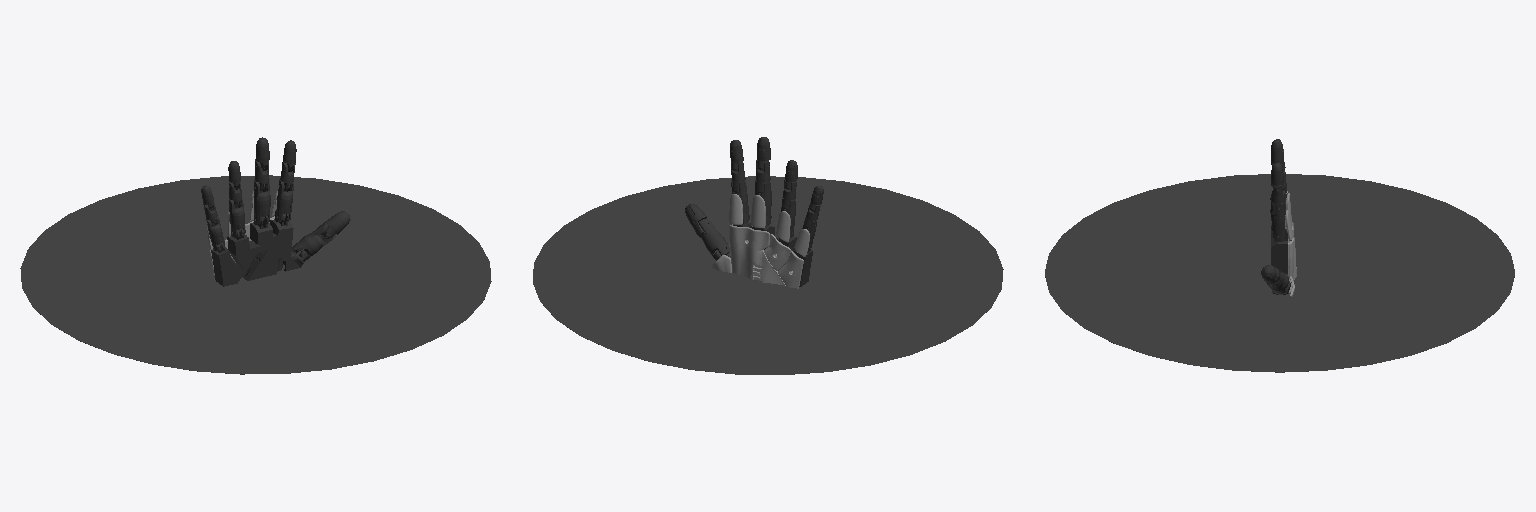
robot.urdf — inmoov_hand:
<?xml version="1.0" ?>
<!-- =================================================================================== -->
<!-- |    This document was autogenerated by xacro from inmoov_right_hand.urdf.xacro   | -->
<!-- |    EDITING THIS FILE BY HAND IS NOT RECOMMENDED                                 | -->
<!-- =================================================================================== -->
<robot name="inmoov_hand" xmlns:xacro="http://ros.org/wiki/xacro">
  <link name="base_link">
    <visual>
      <geometry>
        <cylinder length="0.0001" radius="0.26"/>
      </geometry>
      <origin rpy="0 0 0" xyz="0 0 0.055"/>
      <material name="invisible">
        <color rgba="0.3 0.3 0.3 0"/>
      </material>
    </visual>
  </link>
  <link name="right_hand">
    <visual>
      <geometry>
        <mesh filename="package://inmoov_description/meshes/right_hand.stl" scale="0.001 0.001 0.001"/>
      </geometry>
      <origin rpy="0 0 0" xyz="0 0 0"/>
      <material name="cframe">
        <color rgba="0.25 0.25 0.25 1"/>
      </material>
    </visual>
  </link>
  <link name="right_thumb1">
    <visual>
      <geometry>
        <mesh filename="package://inmoov_description/meshes/right_thumb5_1.stl" scale="0.001 0.001 0.001"/>
      </geometry>
      <origin rpy="3.1415 0 0" xyz="0 0 0"/>
      <material name="cframe">
        <color rgba="0.25 0.25 0.25 1"/>
      </material>
    </visual>
  </link>
  <link name="right_thumb2">
    <visual>
      <geometry>
        <mesh filename="package://inmoov_description/meshes/thumb5_2.stl" scale="0.001 0.001 0.001"/>
      </geometry>
      <origin rpy="0 0 3.1415" xyz="0 0 0"/>
      <material name="cframe">
        <color rgba="0.25 0.25 0.25 1"/>
      </material>
    </visual>
  </link>
  <link name="right_thumb3">
    <visual>
      <geometry>
        <mesh filename="package://inmoov_description/meshes/thumb5_3.stl" scale="0.001 0.001 0.001"/>
      </geometry>
      <origin rpy="0 0 3.1415" xyz="0 0 0"/>
      <material name="cframe">
        <color rgba="0.25 0.25 0.25 1"/>
      </material>
    </visual>
  </link>
  <link name="right_index1">
    <visual>
      <geometry>
        <mesh filename="package://inmoov_description/meshes/index3_1.stl" scale="0.001 0.001 0.001"/>
      </geometry>
      <origin rpy="0 0 3.1415" xyz="0 0 0"/>
      <material name="cframe">
        <color rgba="0.25 0.25 0.25 1"/>
      </material>
    </visual>
  </link>
  <link name="right_index2">
    <visual>
      <geometry>
        <mesh filename="package://inmoov_description/meshes/index3_2.stl" scale="0.001 0.001 0.001"/>
      </geometry>
      <origin rpy="0 0 3.1415" xyz="0 0 0"/>
      <material name="cframe">
        <color rgba="0.25 0.25 0.25 1"/>
      </material>
    </visual>
  </link>
  <link name="right_index3">
    <visual>
      <geometry>
        <mesh filename="package://inmoov_description/meshes/index3_3.stl" scale="0.001 0.001 0.001"/>
      </geometry>
      <origin rpy="0 0 3.1415" xyz="0 0 0"/>
      <material name="cframe">
        <color rgba="0.25 0.25 0.25 1"/>
      </material>
    </visual>
  </link>
  <link name="right_middle1">
    <visual>
      <geometry>
        <mesh filename="package://inmoov_description/meshes/middle3_1.stl" scale="0.001 0.001 0.001"/>
      </geometry>
      <origin rpy="0 0 3.1415" xyz="0 0 0"/>
      <material name="cframe">
        <color rgba="0.25 0.25 0.25 1"/>
      </material>
    </visual>
  </link>
  <link name="right_middle2">
    <visual>
      <geometry>
        <mesh filename="package://inmoov_description/meshes/middle3_2.stl" scale="0.001 0.001 0.001"/>
      </geometry>
      <origin rpy="0 0 3.1415" xyz="0 0 0"/>
      <material name="cframe">
        <color rgba="0.25 0.25 0.25 1"/>
      </material>
    </visual>
  </link>
  <link name="right_middle3">
    <visual>
      <geometry>
        <mesh filename="package://inmoov_description/meshes/middle3_3.stl" scale="0.001 0.001 0.001"/>
      </geometry>
      <origin rpy="0 0 3.1415" xyz="0 0 0"/>
      <material name="cframe">
        <color rgba="0.25 0.25 0.25 1"/>
      </material>
    </visual>
  </link>
  <link name="right_ring1">
    <visual>
      <geometry>
        <mesh filename="package://inmoov_description/meshes/right_ring3_1.stl" scale="0.001 0.001 0.001"/>
      </geometry>
      <origin rpy="0 0 3.1415" xyz="0 0 0"/>
      <material name="cframe">
        <color rgba="0.25 0.25 0.25 1"/>
      </material>
    </visual>
  </link>
  <link name="right_ring2">
    <visual>
      <geometry>
        <mesh filename="package://inmoov_description/meshes/ring3_2.stl" scale="0.001 0.001 0.001"/>
      </geometry>
      <origin rpy="0 0 3.1415" xyz="0 0 0"/>
      <material name="cframe">
        <color rgba="0.25 0.25 0.25 1"/>
      </material>
    </visual>
  </link>
  <link name="right_ring3">
    <visual>
      <geometry>
        <mesh filename="package://inmoov_description/meshes/ring3_3.stl" scale="0.001 0.001 0.001"/>
      </geometry>
      <origin rpy="0 0 3.1415" xyz="0 0 0"/>
      <material name="cframe">
        <color rgba="0.25 0.25 0.25 1"/>
      </material>
    </visual>
  </link>
  <link name="right_ring4">
    <visual>
      <geometry>
        <mesh filename="package://inmoov_description/meshes/ring3_4.stl" scale="0.001 0.001 0.001"/>
      </geometry>
      <origin rpy="0 0 3.1415" xyz="0 0 0"/>
      <material name="cframe">
        <color rgba="0.25 0.25 0.25 1"/>
      </material>
    </visual>
  </link>
  <link name="right_pinky1">
    <visual>
      <geometry>
        <mesh filename="package://inmoov_description/meshes/right_pinky3_1.stl" scale="0.001 0.001 0.001"/>
      </geometry>
      <origin rpy="0 0 3.1415" xyz="0 0 0"/>
      <material name="cframe">
        <color rgba="0.25 0.25 0.25 1"/>
      </material>
    </visual>
  </link>
  <link name="right_pinky2">
    <visual>
      <geometry>
        <mesh filename="package://inmoov_description/meshes/pinky3_2.stl" scale="0.001 0.001 0.001"/>
      </geometry>
      <origin rpy="0 0 3.1415" xyz="0 0 0"/>
      <material name="cframe">
        <color rgba="0.25 0.25 0.25 1"/>
      </material>
    </visual>
  </link>
  <link name="right_pinky3">
    <visual>
      <geometry>
        <mesh filename="package://inmoov_description/meshes/pinky3_3.stl" scale="0.001 0.001 0.001"/>
      </geometry>
      <origin rpy="0 0 3.1415" xyz="0 0 0"/>
      <material name="cframe">
        <color rgba="0.25 0.25 0.25 1"/>
      </material>
    </visual>
  </link>
  <link name="right_pinky4">
    <visual>
      <geometry>
        <mesh filename="package://inmoov_description/meshes/pinky3_4.stl" scale="0.001 0.001 0.001"/>
      </geometry>
      <origin rpy="0 0 3.1415" xyz="0 0 0"/>
      <material name="cframe">
        <color rgba="0.25 0.25 0.25 1"/>
      </material>
    </visual>
  </link>
  <joint name="right_thumb1" type="revolute">
    <axis xyz="0 0 1"/>
    <limit effort="1000.0" lower="0" upper="1.57" velocity="0.5"/>
    <origin rpy="3.1415 0.1 0" xyz="-0.029 0 -0.0577"/>
    <mimic joint="right_thumb" multiplier="-0.75" offset="0"/>
    <parent link="right_hand"/>
    <child link="right_thumb1"/>
  </joint>
  <joint name="right_thumb" type="revolute">
    <axis xyz="1 0 0"/>
    <limit effort="1000.0" lower="0" upper="1.5" velocity="0.5"/>
    <origin rpy="0 2.3 -0.3" xyz="-0.02725 -0.0006 0.014"/>
    <parent link="right_thumb1"/>
    <child link="right_thumb2"/>
  </joint>
  <joint name="right_thumb3" type="revolute">
    <axis xyz="1 0 0"/>
    <limit effort="1000.0" lower="-1.57" upper="0" velocity="0.5"/>
    <origin rpy="0 0 0" xyz="0 0 -0.035"/>
    <mimic joint="right_thumb" multiplier="1" offset="0"/>
    <parent link="right_thumb2"/>
    <child link="right_thumb3"/>
  </joint>
  <joint name="right_index1" type="revolute">
    <axis xyz="1 0 0"/>
    <limit effort="1000.0" lower="0" upper="1.5" velocity="0.5"/>
    <origin rpy="0 -0.1 3.1415" xyz="-0.0342 -0.0015 -0.119"/>
    <mimic joint="right_index" multiplier="1" offset="0"/>
    <parent link="right_hand"/>
    <child link="right_index1"/>
  </joint>
  <joint name="right_index" type="revolute">
    <axis xyz="1 0 0"/>
    <limit effort="1000.0" lower="0" upper="1.5" velocity="0.5"/>
    <origin rpy="0 0 0" xyz="0 0.001 -0.03595"/>
    <parent link="right_index1"/>
    <child link="right_index2"/>
  </joint>
  <joint name="right_index3" type="revolute">
    <axis xyz="1 0 0"/>
    <limit effort="1000.0" lower="0" upper="1.5" velocity="0.5"/>
    <origin rpy="0 0 0" xyz="0 0 -0.024"/>
    <mimic joint="right_index" multiplier="1" offset="0"/>
    <parent link="right_index2"/>
    <child link="right_index3"/>
  </joint>
  <joint name="right_middle1" type="revolute">
    <axis xyz="1 0 0"/>
    <limit effort="1000.0" lower="0" upper="1.5" velocity="0.5"/>
    <origin rpy="0 0 3.1415" xyz="-0.007 -0.00175 -0.12325"/>
    <mimic joint="right_middle" multiplier="1" offset="0"/>
    <parent link="right_hand"/>
    <child link="right_middle1"/>
  </joint>
  <joint name="right_middle" type="revolute">
    <axis xyz="1 0 0"/>
    <limit effort="1000.0" lower="0" upper="1.5" velocity="0.5"/>
    <origin rpy="0 0 0" xyz="0 0.000 -0.0389"/>
    <parent link="right_middle1"/>
    <child link="right_middle2"/>
  </joint>
  <joint name="right_middle3" type="revolute">
    <axis xyz="1 0 0"/>
    <limit effort="1000.0" lower="-1.57" upper="0" velocity="0.5"/>
    <origin rpy="0 0 0" xyz="0 0.0005 -0.0259"/>
    <mimic joint="right_middle" multiplier="1" offset="0"/>
    <parent link="right_middle2"/>
    <child link="right_middle3"/>
  </joint>
  <joint name="right_ring1" type="revolute">
    <axis xyz="0 0 1"/>
    <limit effort="1000.0" lower="-1.57" upper="0" velocity="0.5"/>
    <origin rpy="0 -0.7 3.1415" xyz="0.00705 0 -0.0794"/>
    <mimic joint="right_ring" multiplier="0.1" offset="0"/>
    <parent link="right_hand"/>
    <child link="right_ring1"/>
  </joint>
  <joint name="right_ring" type="revolute">
    <axis xyz="1 0 0"/>
    <limit effort="1000.0" lower="0" upper="1.5" velocity="0.5"/>
    <origin rpy="0 0.7775 0" xyz="-0.0351 0.00126 -0.0166"/>
    <parent link="right_ring1"/>
    <child link="right_ring2"/>
  </joint>
  <joint name="right_ring3" type="revolute">
    <axis xyz="1 0 0"/>
    <limit effort="1000.0" lower="-1.57" upper="0" velocity="0.5"/>
    <origin rpy="0 0 0" xyz="0 0.0005 -0.0345"/>
    <mimic joint="right_ring" multiplier="1" offset="0"/>
    <parent link="right_ring2"/>
    <child link="right_ring3"/>
  </joint>
  <joint name="right_ring4" type="revolute">
    <axis xyz="1 0 0"/>
    <limit effort="1000.0" lower="-1.57" upper="0" velocity="0.5"/>
    <origin rpy="0 0 0" xyz="0 0.0004 -0.0229"/>
    <mimic joint="right_ring" multiplier="1" offset="0"/>
    <parent link="right_ring3"/>
    <child link="right_ring4"/>
  </joint>
  <joint name="right_pinky1" type="revolute">
    <axis xyz="0 0 1"/>
    <limit effort="1000.0" lower="-1.57" upper="0" velocity="0.5"/>
    <origin rpy="0 -0.7 3.1415" xyz="0.027 0 -0.0555"/>
    <mimic joint="right_pinky" multiplier="0.1" offset="0"/>
    <parent link="right_hand"/>
    <child link="right_pinky1"/>
  </joint>
  <joint name="right_pinky" type="revolute">
    <axis xyz="1 0 0"/>
    <limit effort="1000.0" lower="0" upper="1.5" velocity="0.5"/>
    <origin rpy="0 0.93 0" xyz="-0.046 -0 -0.0228"/>
    <parent link="right_pinky1"/>
    <child link="right_pinky2"/>
  </joint>
  <joint name="right_pinky3" type="revolute">
    <axis xyz="1 0 0"/>
    <limit effort="1000.0" lower="-1.57" upper="0" velocity="0.5"/>
    <origin rpy="0 0 0" xyz="0 0.0005 -0.031"/>
    <mimic joint="right_pinky" multiplier="1" offset="0"/>
    <parent link="right_pinky2"/>
    <child link="right_pinky3"/>
  </joint>
  <joint name="right_pinky4" type="revolute">
    <axis xyz="1 0 0"/>
    <limit effort="1000.0" lower="-1.57" upper="0" velocity="0.5"/>
    <origin rpy="0 0 0" xyz="0 0.0004 -0.0208"/>
    <mimic joint="right_pinky" multiplier="1" offset="0"/>
    <parent link="right_pinky3"/>
    <child link="right_pinky4"/>
  </joint>
  <link name="right_handcover">
    <visual>
      <geometry>
        <mesh filename="package://inmoov_description/meshes/right_cover_hand.stl" scale="0.001 0.001 0.001"/>
      </geometry>
      <origin rpy="0 0 0" xyz="0 0 0"/>
      <material name="ccover">
        <color rgba="0.6 0.6 0.6 1"/>
      </material>
    </visual>
  </link>
  <link name="right_cover_handring">
    <visual>
      <geometry>
        <mesh filename="package://inmoov_description/meshes/right_cover_handring.stl" scale="0.001 0.001 0.001"/>
      </geometry>
      <origin rpy="0 0 3.1415" xyz="0 0 0"/>
      <material name="ccover">
        <color rgba="0.6 0.6 0.6 1"/>
      </material>
    </visual>
  </link>
  <link name="right_cover_handpinky">
    <visual>
      <geometry>
        <mesh filename="package://inmoov_description/meshes/right_cover_handpinky.stl" scale="0.001 0.001 0.001"/>
      </geometry>
      <origin rpy="0 0 3.1415" xyz="0 0 0"/>
      <material name="ccover">
        <color rgba="0.6 0.6 0.6 1"/>
      </material>
    </visual>
  </link>
  <link name="right_cover_thumb">
    <visual>
      <geometry>
        <mesh filename="package://inmoov_description/meshes/right_cover_thumb.stl" scale="0.001 0.001 0.001"/>
      </geometry>
      <origin rpy="3.1415 0 0" xyz="0 0 0"/>
      <material name="ccover">
        <color rgba="0.6 0.6 0.6 1"/>
      </material>
    </visual>
  </link>
  <link name="right_cover_index">
    <visual>
      <geometry>
        <mesh filename="package://inmoov_description/meshes/right_cover_index.stl" scale="0.001 0.001 0.001"/>
      </geometry>
      <origin rpy="0 0 3.1415" xyz="0 0 0"/>
      <material name="ccover">
        <color rgba="0.6 0.6 0.6 1"/>
      </material>
    </visual>
  </link>
  <link name="right_cover_middle">
    <visual>
      <geometry>
        <mesh filename="package://inmoov_description/meshes/right_cover_middle.stl" scale="0.001 0.001 0.001"/>
      </geometry>
      <origin rpy="0 0 3.1415" xyz="0 0 0"/>
      <material name="ccover">
        <color rgba="0.6 0.6 0.6 1"/>
      </material>
    </visual>
  </link>
  <link name="right_cover_ring">
    <visual>
      <geometry>
        <mesh filename="package://inmoov_description/meshes/right_cover_ring.stl" scale="0.001 0.001 0.001"/>
      </geometry>
      <origin rpy="0 0 3.1415" xyz="0 0 0"/>
      <material name="ccover">
        <color rgba="0.6 0.6 0.6 1"/>
      </material>
    </visual>
  </link>
  <link name="right_cover_pinky">
    <visual>
      <geometry>
        <mesh filename="package://inmoov_description/meshes/right_cover_pinky.stl" scale="0.001 0.001 0.001"/>
      </geometry>
      <origin rpy="0 0 3.1415" xyz="0 0 0"/>
      <material name="ccover">
        <color rgba="0.6 0.6 0.6 1"/>
      </material>
    </visual>
  </link>
  <joint name="right_handcover" type="fixed">
    <origin rpy="0 0 0" xyz="-0.0192 0.009 -0.0977"/>
    <parent link="right_hand"/>
    <child link="right_handcover"/>
  </joint>
  <joint name="right_cover_handring" type="fixed">
    <origin rpy="0 0.7 0" xyz="-0.015 -0.009 -0.0008"/>
    <parent link="right_ring1"/>
    <child link="right_cover_handring"/>
  </joint>
  <joint name="right_cover_handpinky" type="fixed">
    <origin rpy="0 0.7 0" xyz="-0.0205 -0.01 -0.0069"/>
    <parent link="right_pinky1"/>
    <child link="right_cover_handpinky"/>
  </joint>
  <joint name="right_cover_thumb" type="fixed">
    <origin rpy="0 3.1 0" xyz="-0.02125 -0.01 -0.0047"/>
    <parent link="right_thumb1"/>
    <child link="right_cover_thumb"/>
  </joint>
  <joint name="right_cover_index" type="fixed">
    <origin rpy="0.05 0 0" xyz="0 -0.0071 -0.012"/>
    <parent link="right_index1"/>
    <child link="right_cover_index"/>
  </joint>
  <joint name="right_cover_middle" type="fixed">
    <origin rpy="-0.05 0 0" xyz="0 -0.0071 -0.012"/>
    <parent link="right_middle1"/>
    <child link="right_cover_middle"/>
  </joint>
  <joint name="right_cover_ring" type="fixed">
    <origin rpy="-0.05 -0.1 0" xyz="0 -0.005 -0.011"/>
    <parent link="right_ring2"/>
    <child link="right_cover_ring"/>
  </joint>
  <joint name="right_cover_pinky" type="fixed">
    <origin rpy="-0.05 -0.1 0" xyz="0 -0.005 -0.0105"/>
    <parent link="right_pinky2"/>
    <child link="right_cover_pinky"/>
  </joint>
  <joint name="base_to_hand" type="revolute">
    <axis xyz="0 0 1"/>
    <limit effort="1000.0" lower="-3.14" upper="0" velocity="0.5"/>
    <origin rpy="0 3.1415 0" xyz="0 0 0"/>
    <parent link="base_link"/>
    <child link="right_hand"/>
  </joint>
</robot>

--- Facts derived from the render (not from the file) ---
3 views of the same robot in one strip: view 1: azimuth 30°, elevation 25°; view 2: azimuth 150°, elevation 25°; view 3: azimuth 270°, elevation 25° (orthographic).
Model inmoov_hand with 27 links and 26 joints (18 revolute, 8 fixed), rooted at base_link, posed all joints at 0.
Visible links, largest first — view 1: base_link, right_hand, right_pinky1, right_ring1, right_thumb2, right_middle1; view 2: base_link, right_handcover, right_thumb2, right_cover_handpinky, right_cover_handring; view 3: base_link, right_hand.
Link boxes in pixels (box(x1,y1,x2,y2)): base_link: box(20, 175, 491, 374); right_hand: box(240, 209, 293, 280); right_pinky1: box(211, 243, 248, 286); right_ring1: box(227, 229, 265, 271); right_thumb2: box(292, 221, 335, 261); right_middle1: box(254, 179, 270, 224); base_link: box(533, 176, 1003, 374); right_handcover: box(729, 225, 785, 285); right_thumb2: box(698, 219, 729, 255); right_cover_handpinky: box(778, 251, 803, 288); right_cover_handring: box(764, 234, 791, 270); base_link: box(1045, 174, 1514, 372); right_hand: box(1271, 229, 1287, 273).
Size in the robot's own frame: 0.52 by 0.52 by 0.2205 metres.
Meshes: 26 distinct files referenced, 26 mesh visuals loaded (26 binary STL).